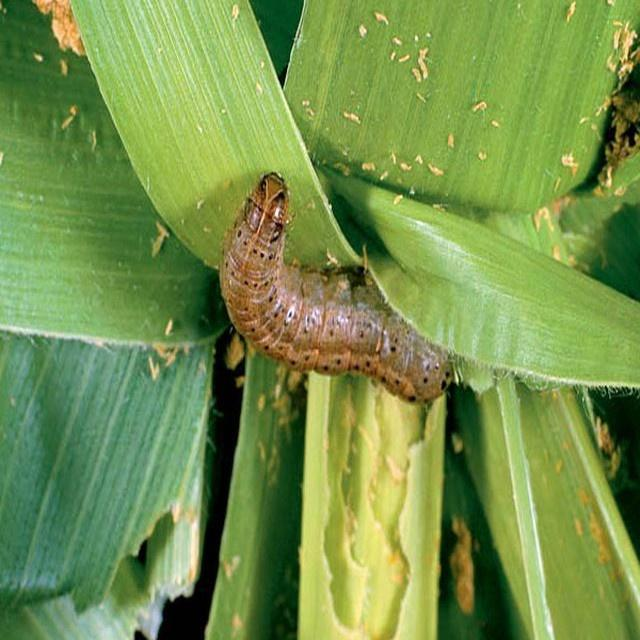worm: (217, 170, 456, 406)
